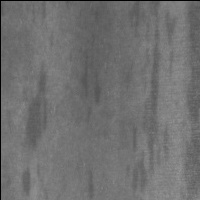inclusion: (143, 18, 172, 179), (177, 4, 200, 200), (23, 51, 53, 151), (76, 40, 105, 129), (122, 121, 149, 198), (159, 5, 183, 81), (78, 163, 99, 200), (16, 162, 36, 200)
